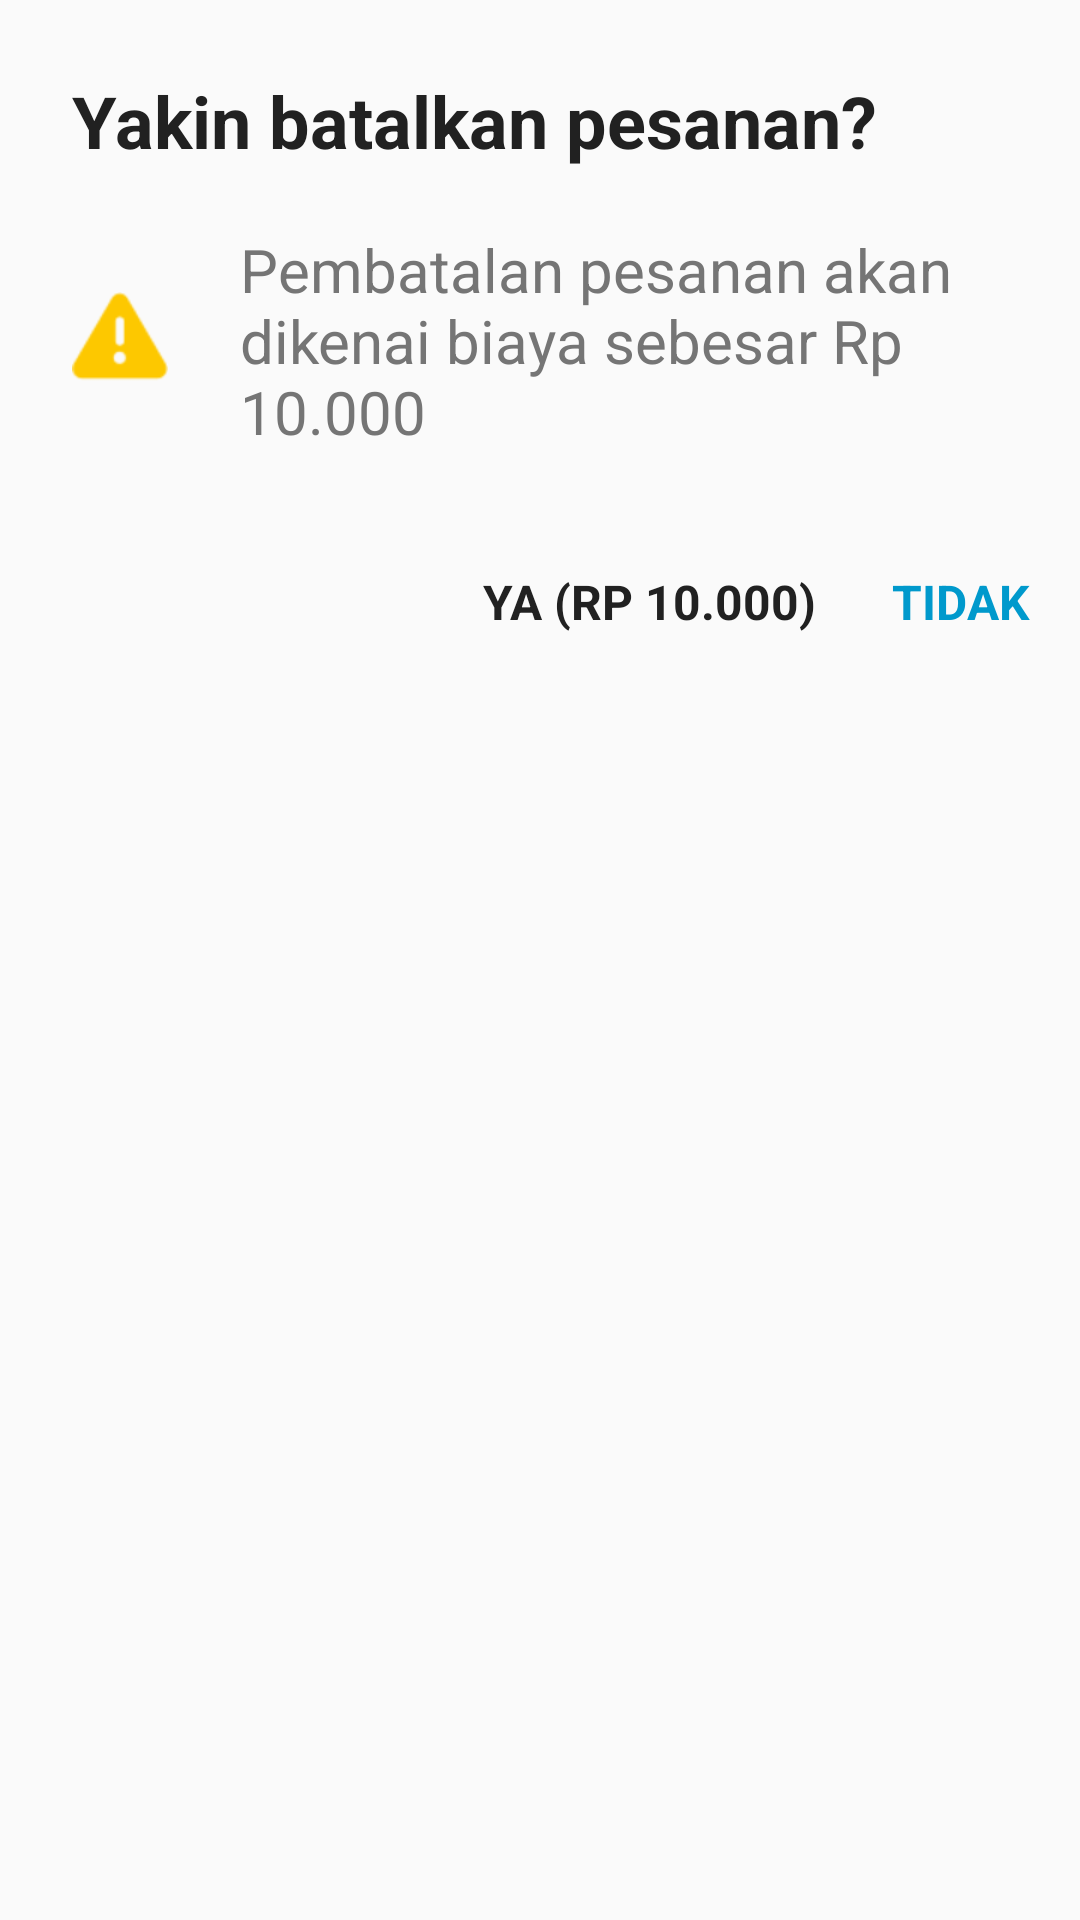

Icon click points for this 1080px x 1920px phone screenshot, format point (x, y):
alert: point (120, 336)
